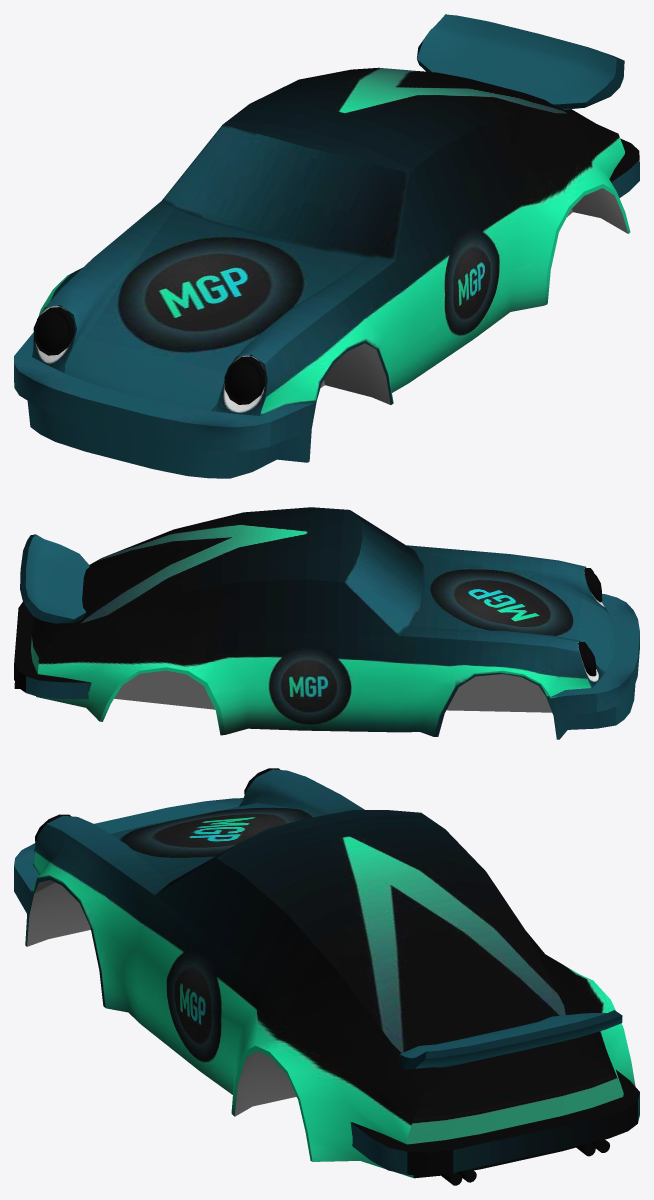
File: mgp_porsche.glb
The picture shows the model from 3 angles, top to bottom: view 1: azimuth 30°, elevation 25°; view 2: azimuth 150°, elevation 25°; view 3: azimuth 270°, elevation 25°; orthographic projection. The views are drawn at different scales.
Parts seen in each view (by area): view 1: Porsche_911; view 2: Porsche_911; view 3: Porsche_911.
Part boxes in pixels (left/top/right/bottom): Porsche_911: left=14, top=14, right=639, bottom=478; Porsche_911: left=14, top=507, right=639, bottom=739; Porsche_911: left=14, top=768, right=639, bottom=1185.
Size of the model in its own units: 4.11 by 1.11 by 3.05.
1 material, 1 textured.
